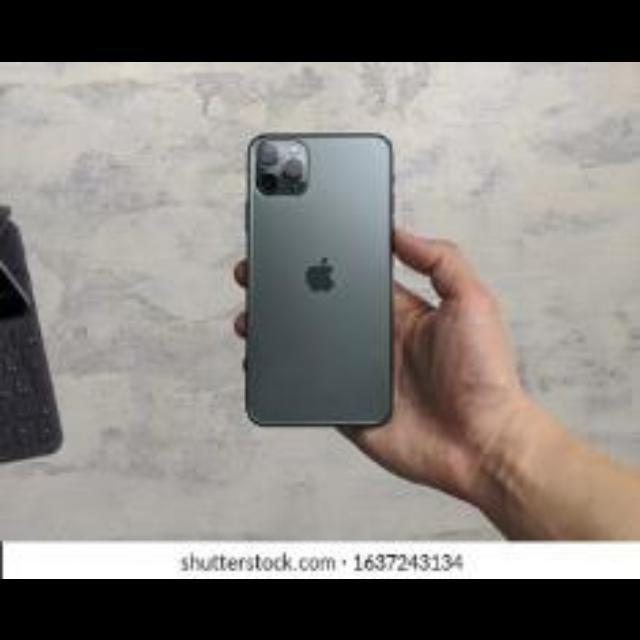PhoneUse: (249, 131, 393, 427)
